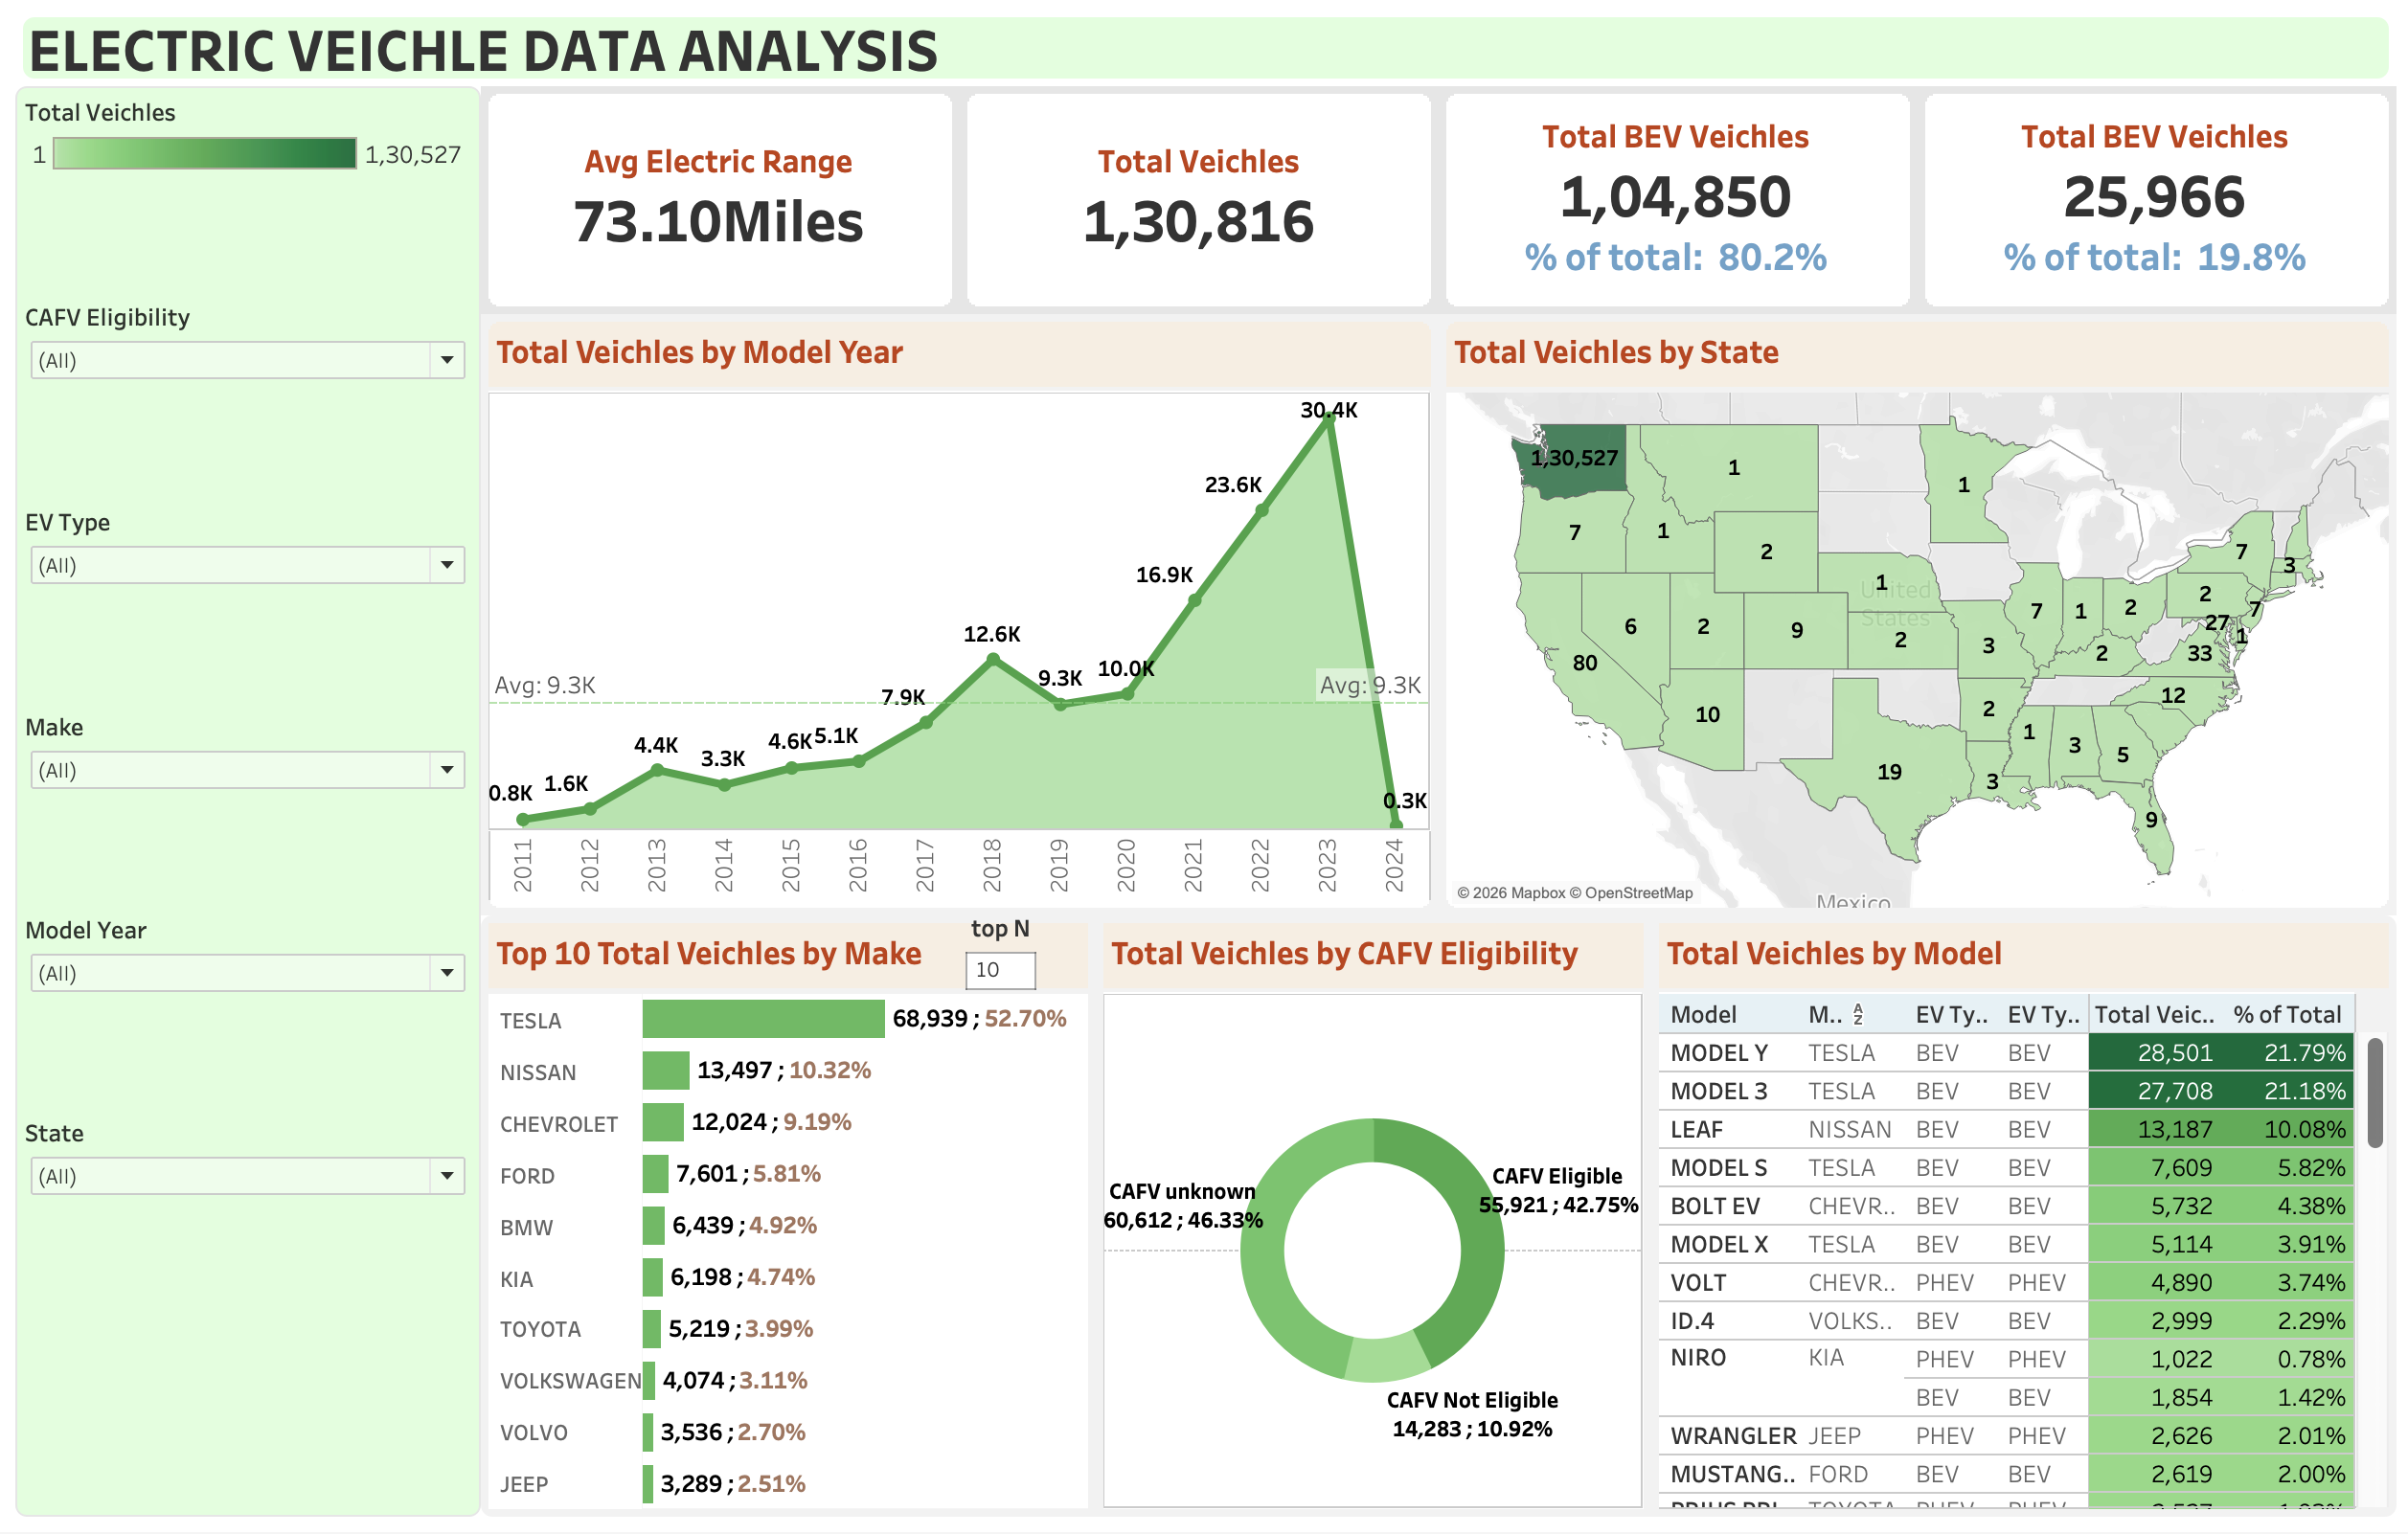

This screenshot's page, from the dashboard's own definition file:
{"tool":"tableau","page":{"name":"Dashboard 1","canvas":[1000,1000],"units":"permille","ordinal":0},"visuals":[{"type":"title","box":[6.4,10,987.3,49.8]},{"type":"worksheet","title":"Avg Electric Rangee","mark":"Automatic","box":[199.4,59.8,198.6,148.2]},{"type":"worksheet","title":"Total Veichles","mark":"Automatic","box":[397.9,59.8,198.6,148.2]},{"type":"worksheet","title":"Total BEV Veichles ","mark":"Automatic","box":[596.5,59.8,198.6,148.2]},{"type":"worksheet","title":"Total PHEV Veichles","mark":"Automatic","box":[795.1,59.8,198.6,148.2]},{"type":"legend","title":"Total Veichles by State","param":"[federated.0wk6oo007bi22h10v0lkz0j0n25e].[usr:Calculation_2485186874601472:qk]","box":[7.2,61,191.4,133.2]},{"type":"filter","title":"Total Veichles by Model Year","param":"[federated.0wk6oo007bi22h10v0lkz0j0n25e].[none:Clean Alternative Fuel Vehicle (C","box":[7.2,194.3,191.4,133.2]},{"type":"worksheet","title":"Total Veichles by Model Year","mark":"Area","rows":["Calculation_2485186874601472","Calculation_2485186874601472"],"cols":["Model Year"],"box":[199.3,208,397.2,391]},{"type":"worksheet","title":"Total Veichles by State","mark":"Multipolygon","box":[596.5,208,397.2,391]},{"type":"filter","title":"Total Veichles by Model Year","param":"[federated.0wk6oo007bi22h10v0lkz0j0n25e].[none:Electric Vehicle Type:nk]","box":[7.2,327.5,191.4,133.2]},{"type":"filter","title":"Total Veichles by Model Year","param":"[federated.0wk6oo007bi22h10v0lkz0j0n25e].[none:Make:nk]","box":[7.2,460.8,191.4,132]},{"type":"filter","title":"Total Veichles by Model Year","param":"[federated.0wk6oo007bi22h10v0lkz0j0n25e].[none:Model Year:ok]","box":[7.2,592.8,191.4,132]},{"type":"parameter","param":"[Parameters].[Parameter 2485187189547017]","box":[397.9,596.5,34.1,59.8]},{"type":"worksheet","title":"Top 10 Total Veichles by Make","mark":"Automatic","rows":["Make"],"cols":["Calculation_2485186874601472"],"box":[199.3,599,255,391]},{"type":"worksheet","title":"Total Veichles by CAFV Eligibility","mark":"Pie","rows":["Calculation_2485187195359243","Calculation_2485187195359243"],"box":[454.3,599,230.4,391]},{"type":"worksheet","title":"Total Veichles by Model","mark":"Square","rows":["Model","Make","Electric Vehicle Type","Electric Vehicle Type"],"box":[684.7,599,309,391]},{"type":"filter","title":"Total Veichles by Model Year","param":"[federated.0wk6oo007bi22h10v0lkz0j0n25e].[none:State:nk]","box":[7.2,724.8,191.4,132]},{"type":"blank","box":[7.2,856.8,191.4,132]}]}

Visuals, with their boxes on the dashboard's canvas, which has no fixed pixel size, in thousandths of its width and height (x1, y1, x2, y2). These are canvas units, not pixel positions in the 2408x1534 screenshot, which may show the page scaled, cropped or inside an application window:
title: (6,10,994,60)
"Avg Electric Rangee" worksheet: (199,60,398,208)
"Total Veichles" worksheet: (398,60,596,208)
"Total BEV Veichles " worksheet: (596,60,795,208)
"Total PHEV Veichles" worksheet: (795,60,994,208)
"Total Veichles by State" legend: (7,61,199,194)
"Total Veichles by Model Year" filter: (7,194,199,328)
"Total Veichles by Model Year" worksheet (Area marks): (199,208,596,599)
"Total Veichles by State" worksheet (Multipolygon marks): (596,208,994,599)
"Total Veichles by Model Year" filter: (7,328,199,461)
"Total Veichles by Model Year" filter: (7,461,199,593)
"Total Veichles by Model Year" filter: (7,593,199,725)
parameter: (398,596,432,656)
"Top 10 Total Veichles by Make" worksheet: (199,599,454,990)
"Total Veichles by CAFV Eligibility" worksheet (Pie marks): (454,599,685,990)
"Total Veichles by Model" worksheet (Square marks): (685,599,994,990)
"Total Veichles by Model Year" filter: (7,725,199,857)
blank: (7,857,199,989)
